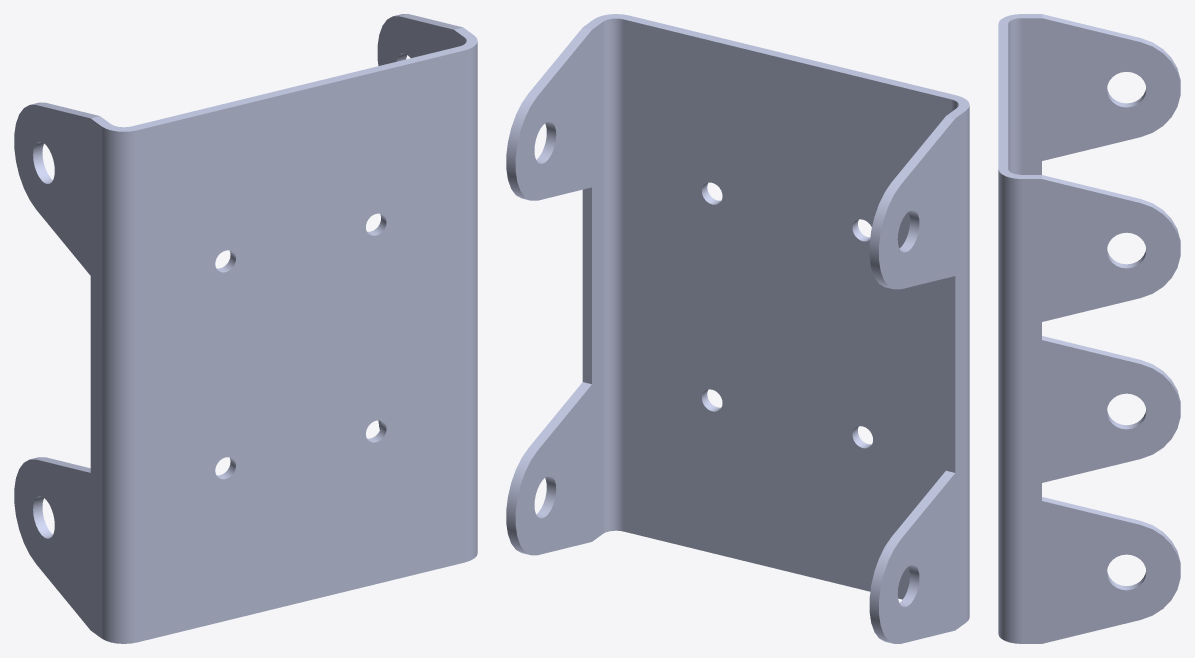
File: soporte_ruedas.glb
3 renders of one model, left to right at view 1: azimuth 30°, elevation 25°; view 2: azimuth 150°, elevation 25°; view 3: azimuth 270°, elevation 25°, orthographic. The views are drawn at different scales.
Visible parts, largest first — view 1: soporte ruedas; view 2: soporte ruedas; view 3: soporte ruedas.
Part boxes in pixels (box(x1,y1,x2,y2)): soporte ruedas: box(14, 14, 477, 643); soporte ruedas: box(506, 14, 969, 643); soporte ruedas: box(998, 14, 1180, 643).
Bounding box in the file's own units: 0.198 × 0.26 × 0.0923.
